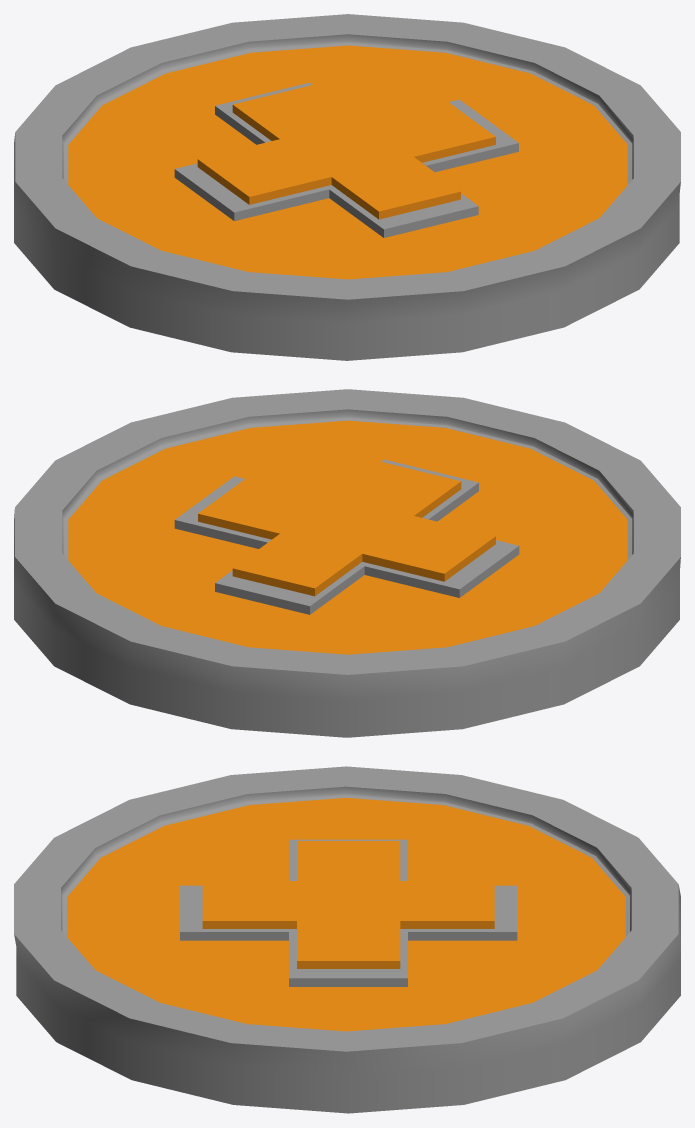
File: coin.fbx
3 renders of one model, top to bottom at view 1: azimuth 30°, elevation 25°; view 2: azimuth 150°, elevation 25°; view 3: azimuth 270°, elevation 25°, orthographic.
Parts seen in each view (by area): view 1: Object001, Cylinder001, Box001, Box002; view 2: Object001, Cylinder001, Box001, Box002; view 3: Object001, Cylinder001, Box001, Box002.
Part boxes in pixels (x1,y1,x2,y2): Object001: (14, 14, 680, 360); Cylinder001: (68, 45, 627, 279); Box001: (197, 84, 495, 219); Box002: (174, 82, 518, 237); Object001: (14, 389, 680, 737); Cylinder001: (68, 420, 627, 654); Box001: (198, 461, 495, 596); Box002: (174, 459, 519, 614); Object001: (14, 766, 680, 1113); Cylinder001: (67, 798, 625, 1031); Box001: (202, 841, 494, 968); Box002: (180, 839, 517, 986).
Bounding box in the file's own units: 197 × 24.47 × 195.
